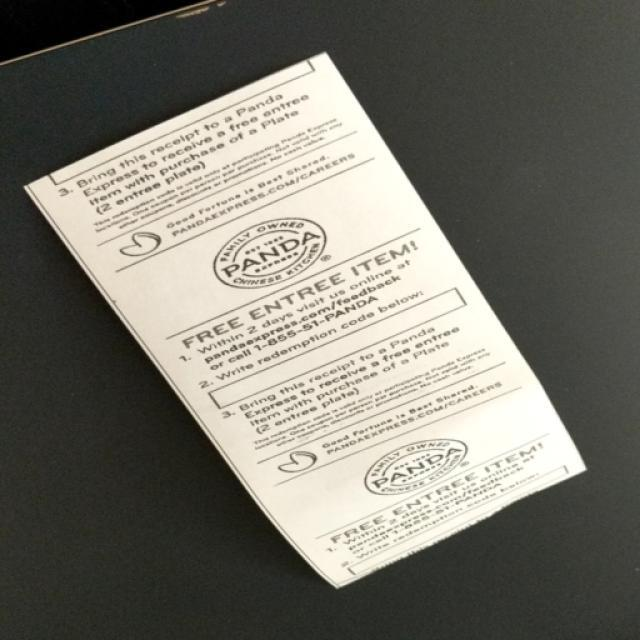document: (25, 52, 585, 585)
